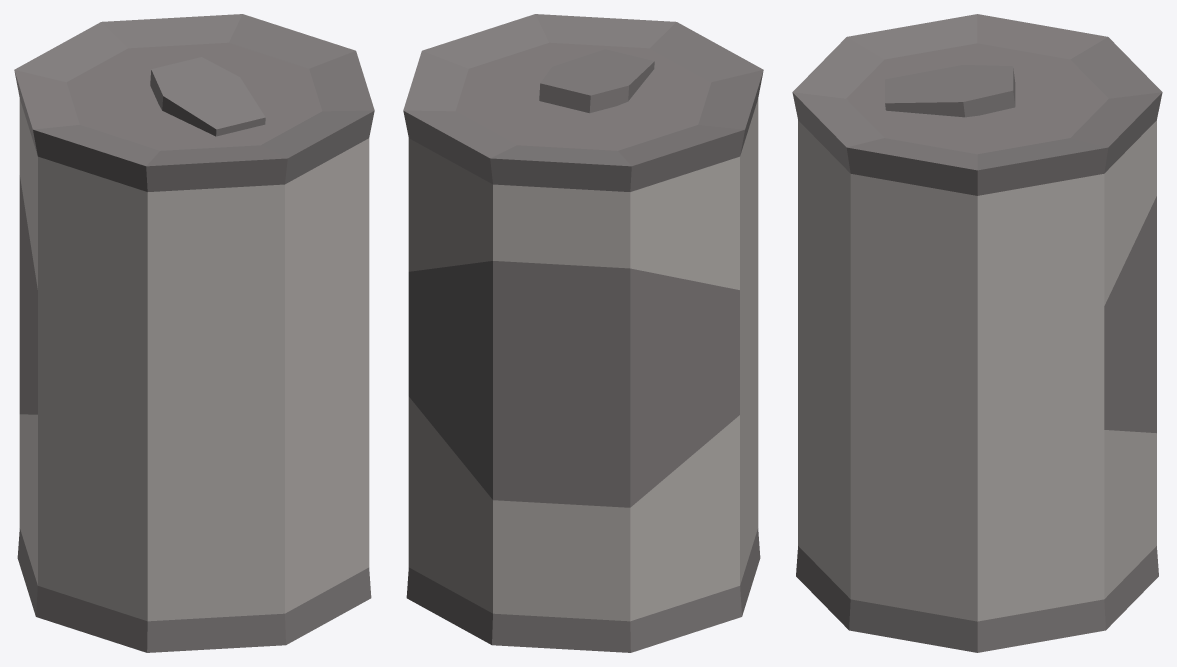
File: can_closed_interactable.fbx
3 renders of one model, left to right at view 1: azimuth 30°, elevation 25°; view 2: azimuth 150°, elevation 25°; view 3: azimuth 270°, elevation 25°, orthographic.
Visible parts, largest first — view 1: can_closed_interactable; view 2: can_closed_interactable; view 3: can_closed_interactable.
Part boxes in pixels (x1,y1,x2,y2): can_closed_interactable: (14, 14, 374, 652); can_closed_interactable: (403, 14, 763, 652); can_closed_interactable: (792, 14, 1162, 652).
Size of the model in its own units: 51.74 by 76.79 by 51.74.
